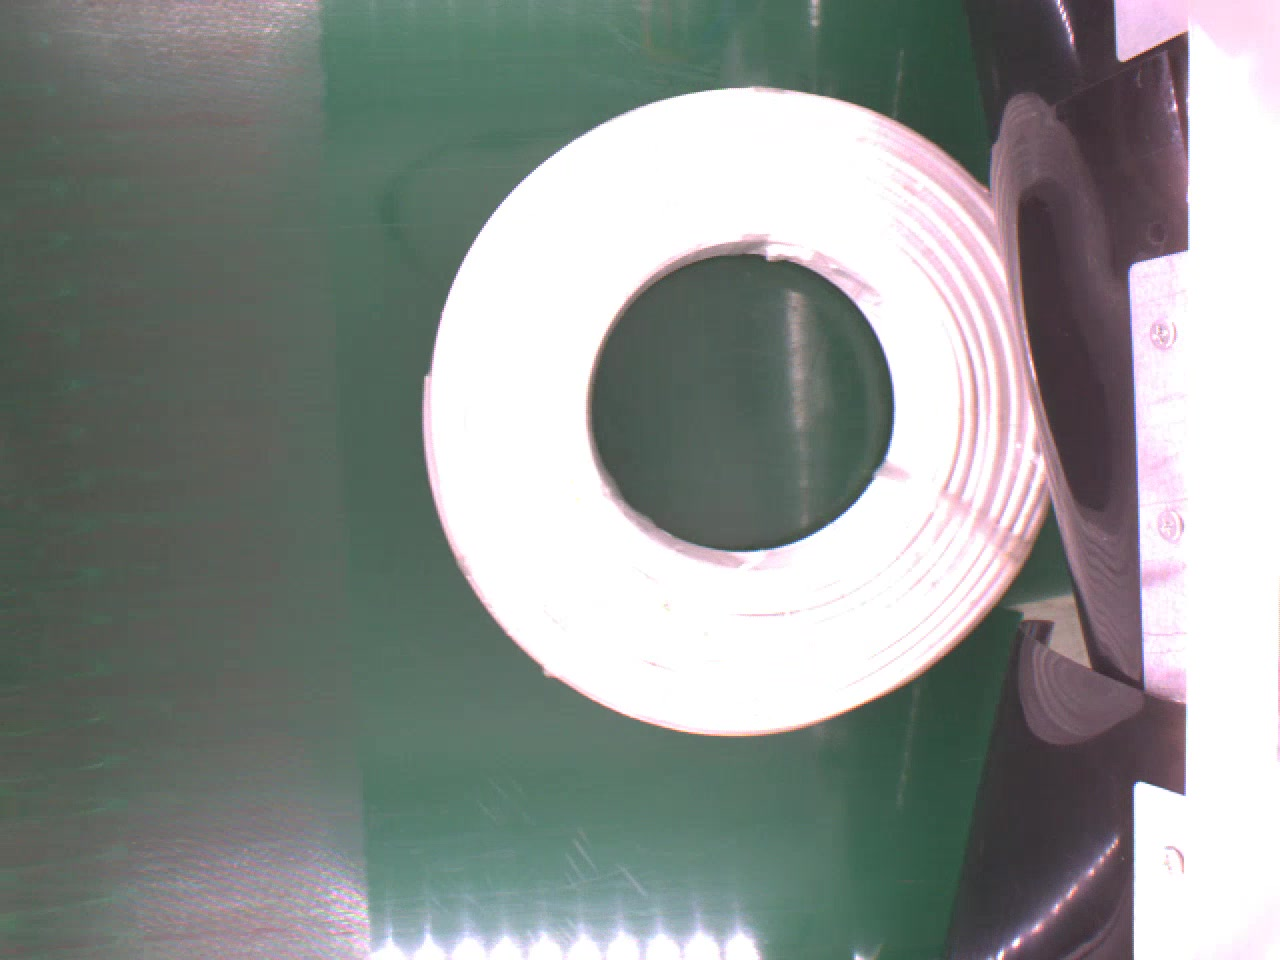white: (418, 80, 1052, 734)
